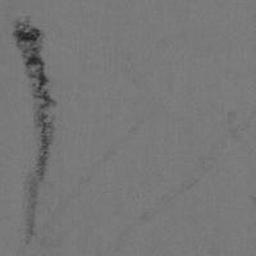Inclusion: (13, 15, 174, 248), (93, 105, 256, 256), (22, 250, 46, 256), (247, 195, 256, 205)
